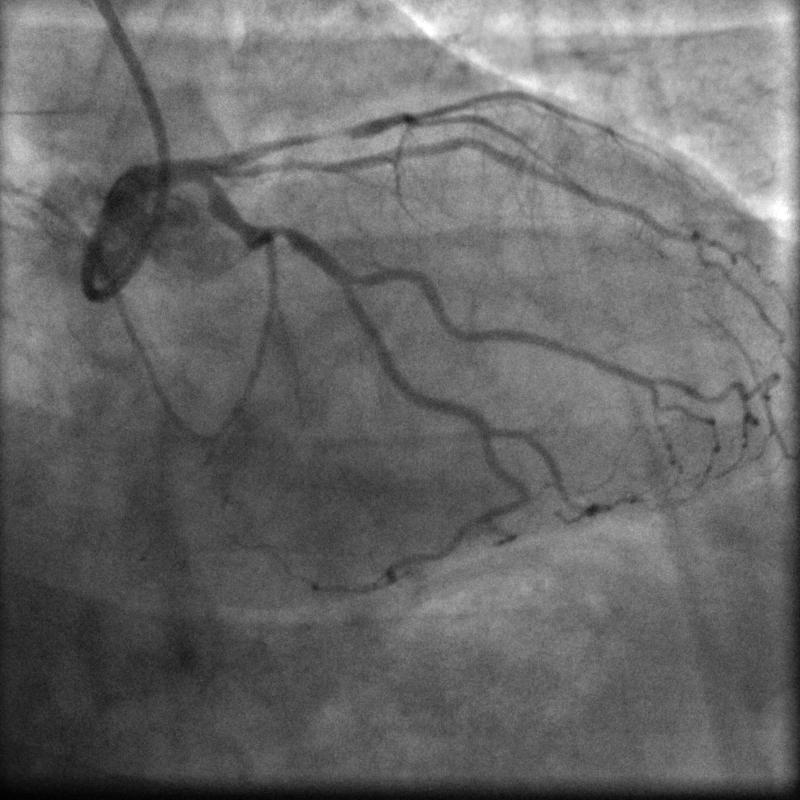Stenosis: (265, 222, 294, 241)
